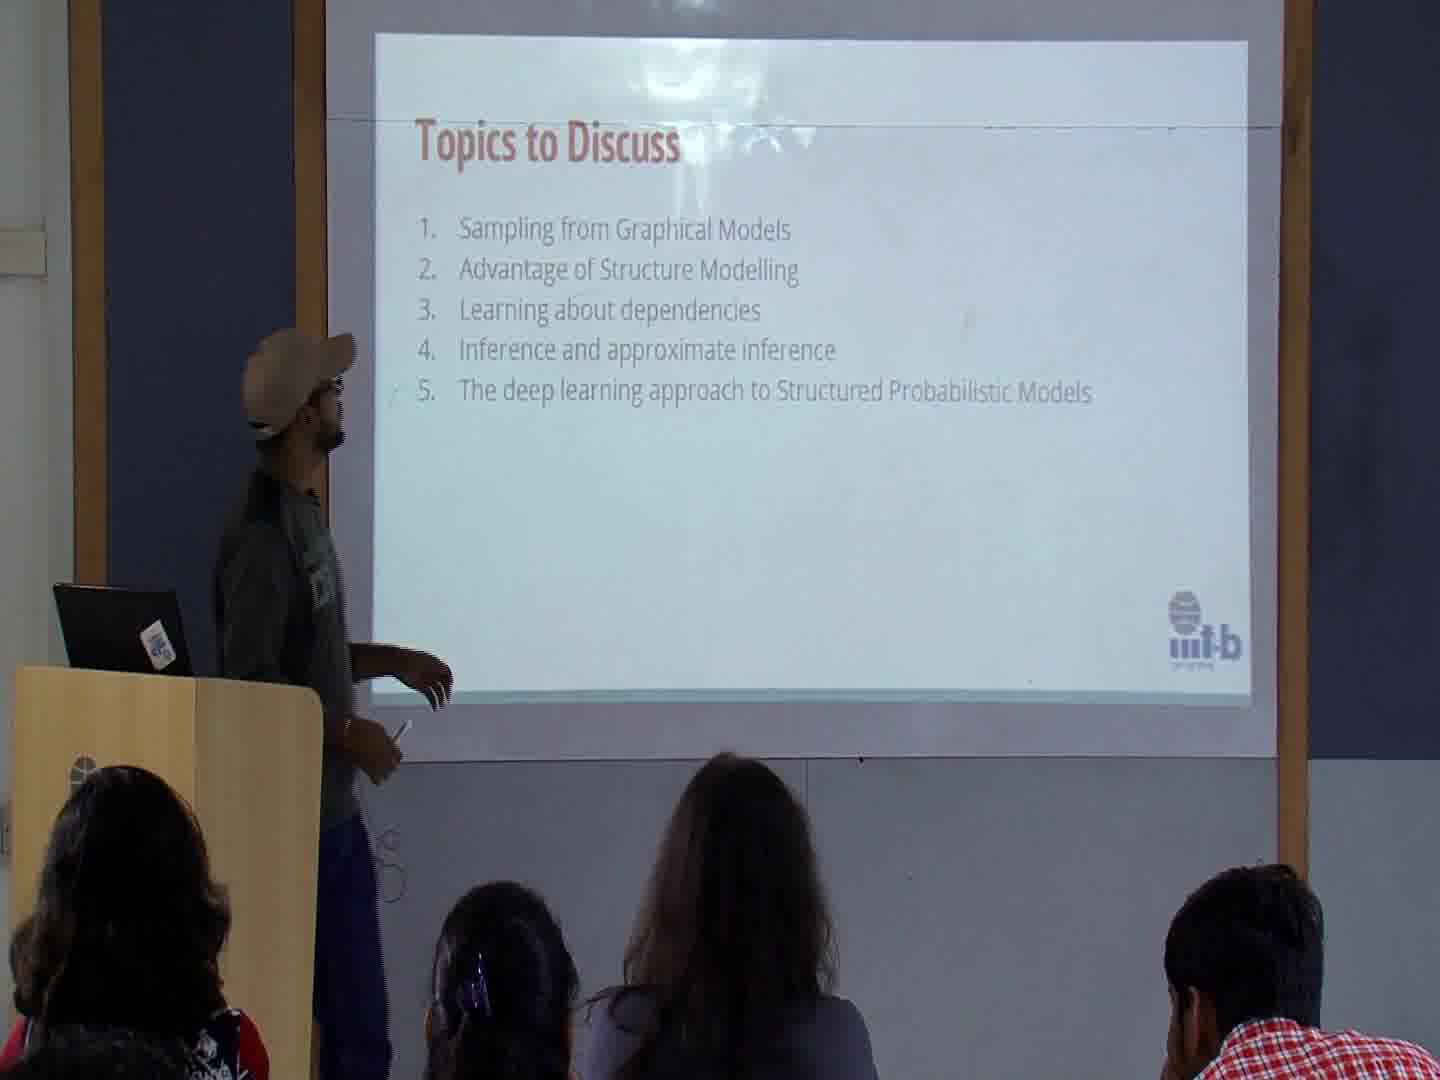slide: (375, 34, 1250, 709)
